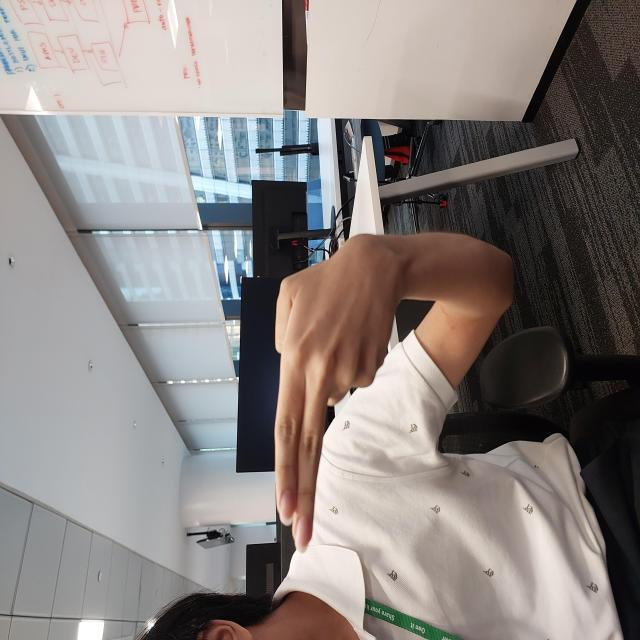H: (86, 269, 406, 398)
